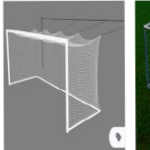goals: (5, 26, 102, 134)
